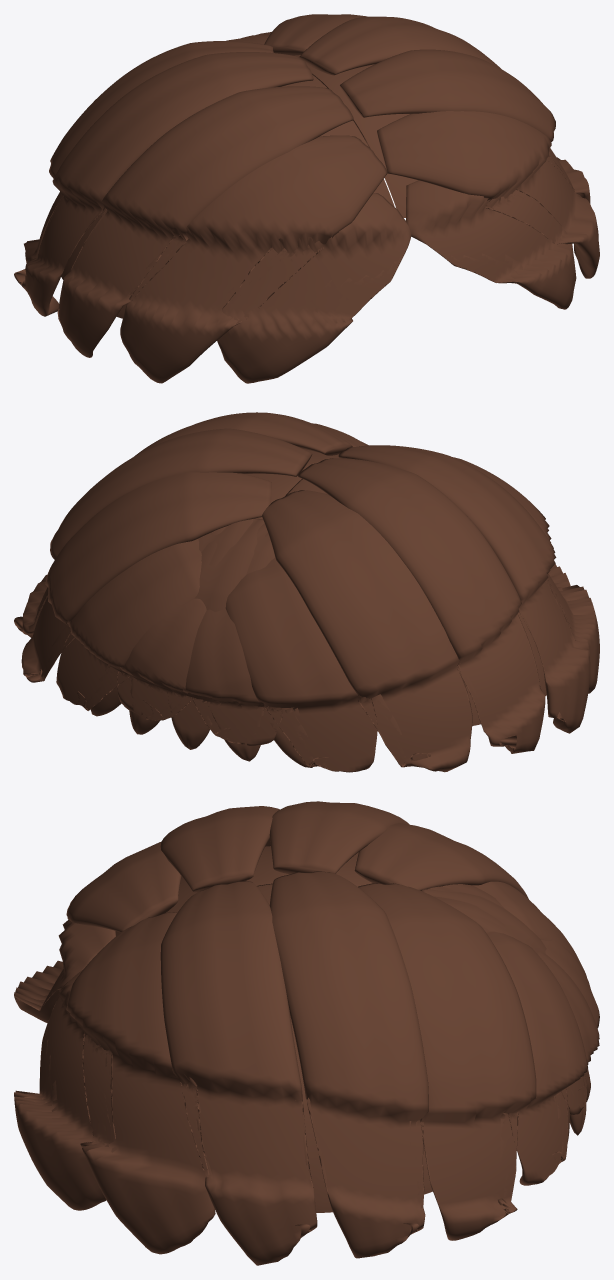
File: Masculine-middle-part-headband260-hair.glb
3 views of the same model, one above another, from view 1: azimuth 30°, elevation 25°; view 2: azimuth 150°, elevation 25°; view 3: azimuth 270°, elevation 25° (orthographic). The views are drawn at different scales.
Parts seen in each view (by area): view 1: 226 hair / Hair260 / layered middle-part; view 2: 226 hair / Hair260 / layered middle-part; view 3: 226 hair / Hair260 / layered middle-part.
Boxes of the visible parts, bbox=[...] form: 226 hair / Hair260 / layered middle-part: bbox=[14, 14, 599, 383]; 226 hair / Hair260 / layered middle-part: bbox=[14, 412, 599, 772]; 226 hair / Hair260 / layered middle-part: bbox=[14, 801, 599, 1265].
Bounding box in the file's own units: 1.03 × 0.4519 × 0.8714.
